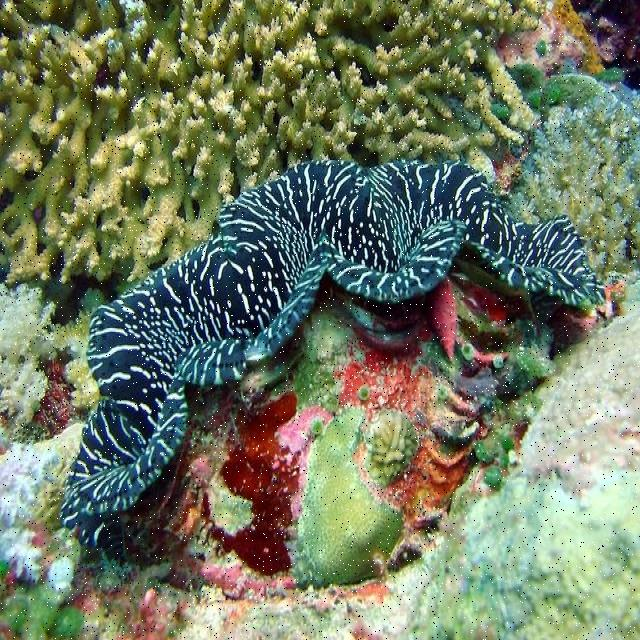reefs: (59, 158, 626, 608), (0, 0, 545, 298), (488, 0, 639, 288), (409, 470, 639, 639), (0, 255, 105, 591), (0, 563, 433, 639), (502, 280, 639, 503)
